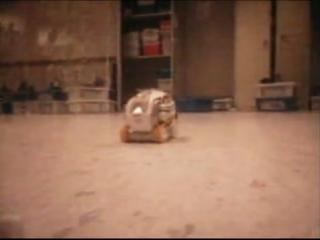cozmo: (118, 88, 178, 144)
